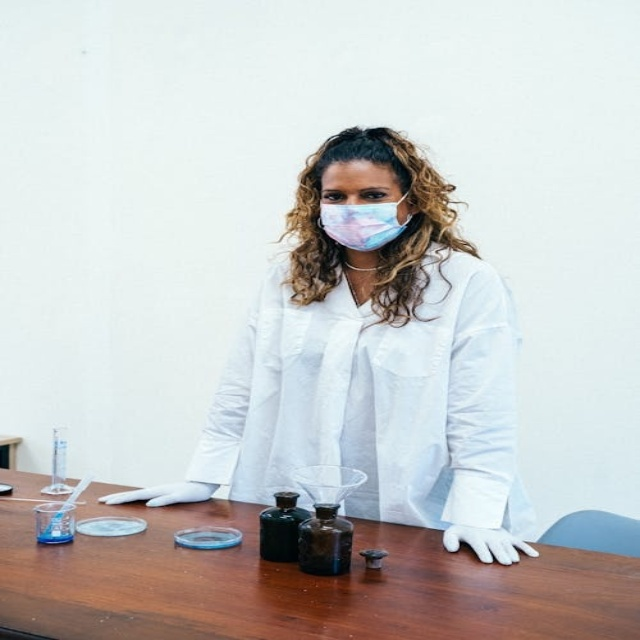Guantes: (443, 522, 541, 565), (99, 482, 216, 507)
Mascara: (319, 190, 415, 250)
Sin_gafas: (316, 182, 394, 204)
